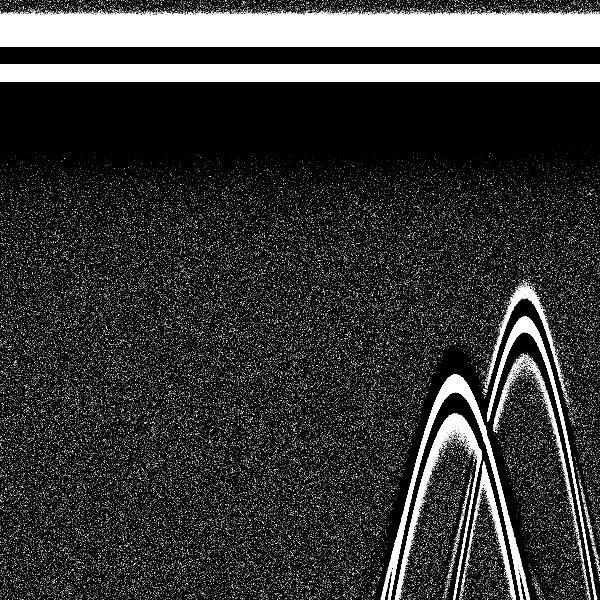pipe: (408, 5, 498, 457), (481, 7, 567, 373)
